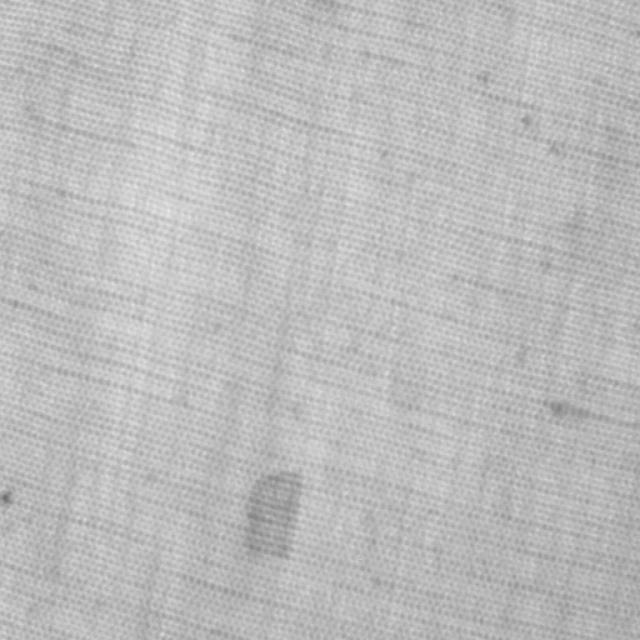oil spot: (238, 465, 306, 566)
